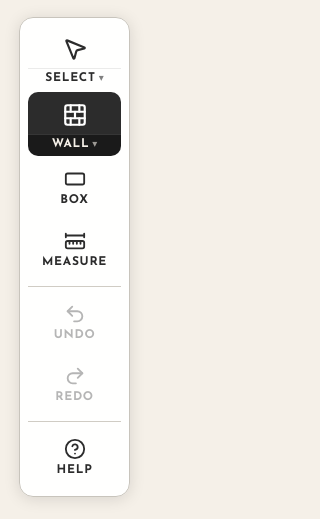
Test: Toolbar › dropdown closes after choosing an option
Click the button with test id "tool-select-pan-toggle": point(75, 79) [28,68,121,90]
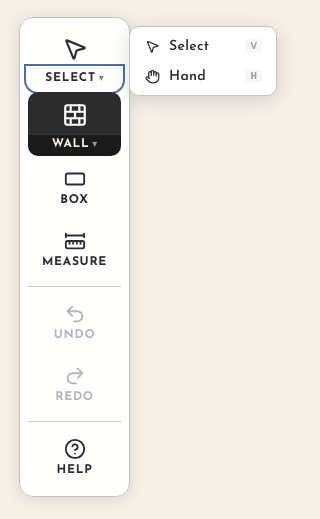
Click the menu item with test id "tool-select": point(203, 46) [134,31,272,61]
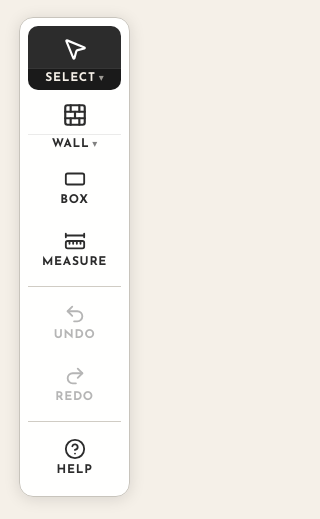
Check: the menu item with test id "tool-pan" is gone
